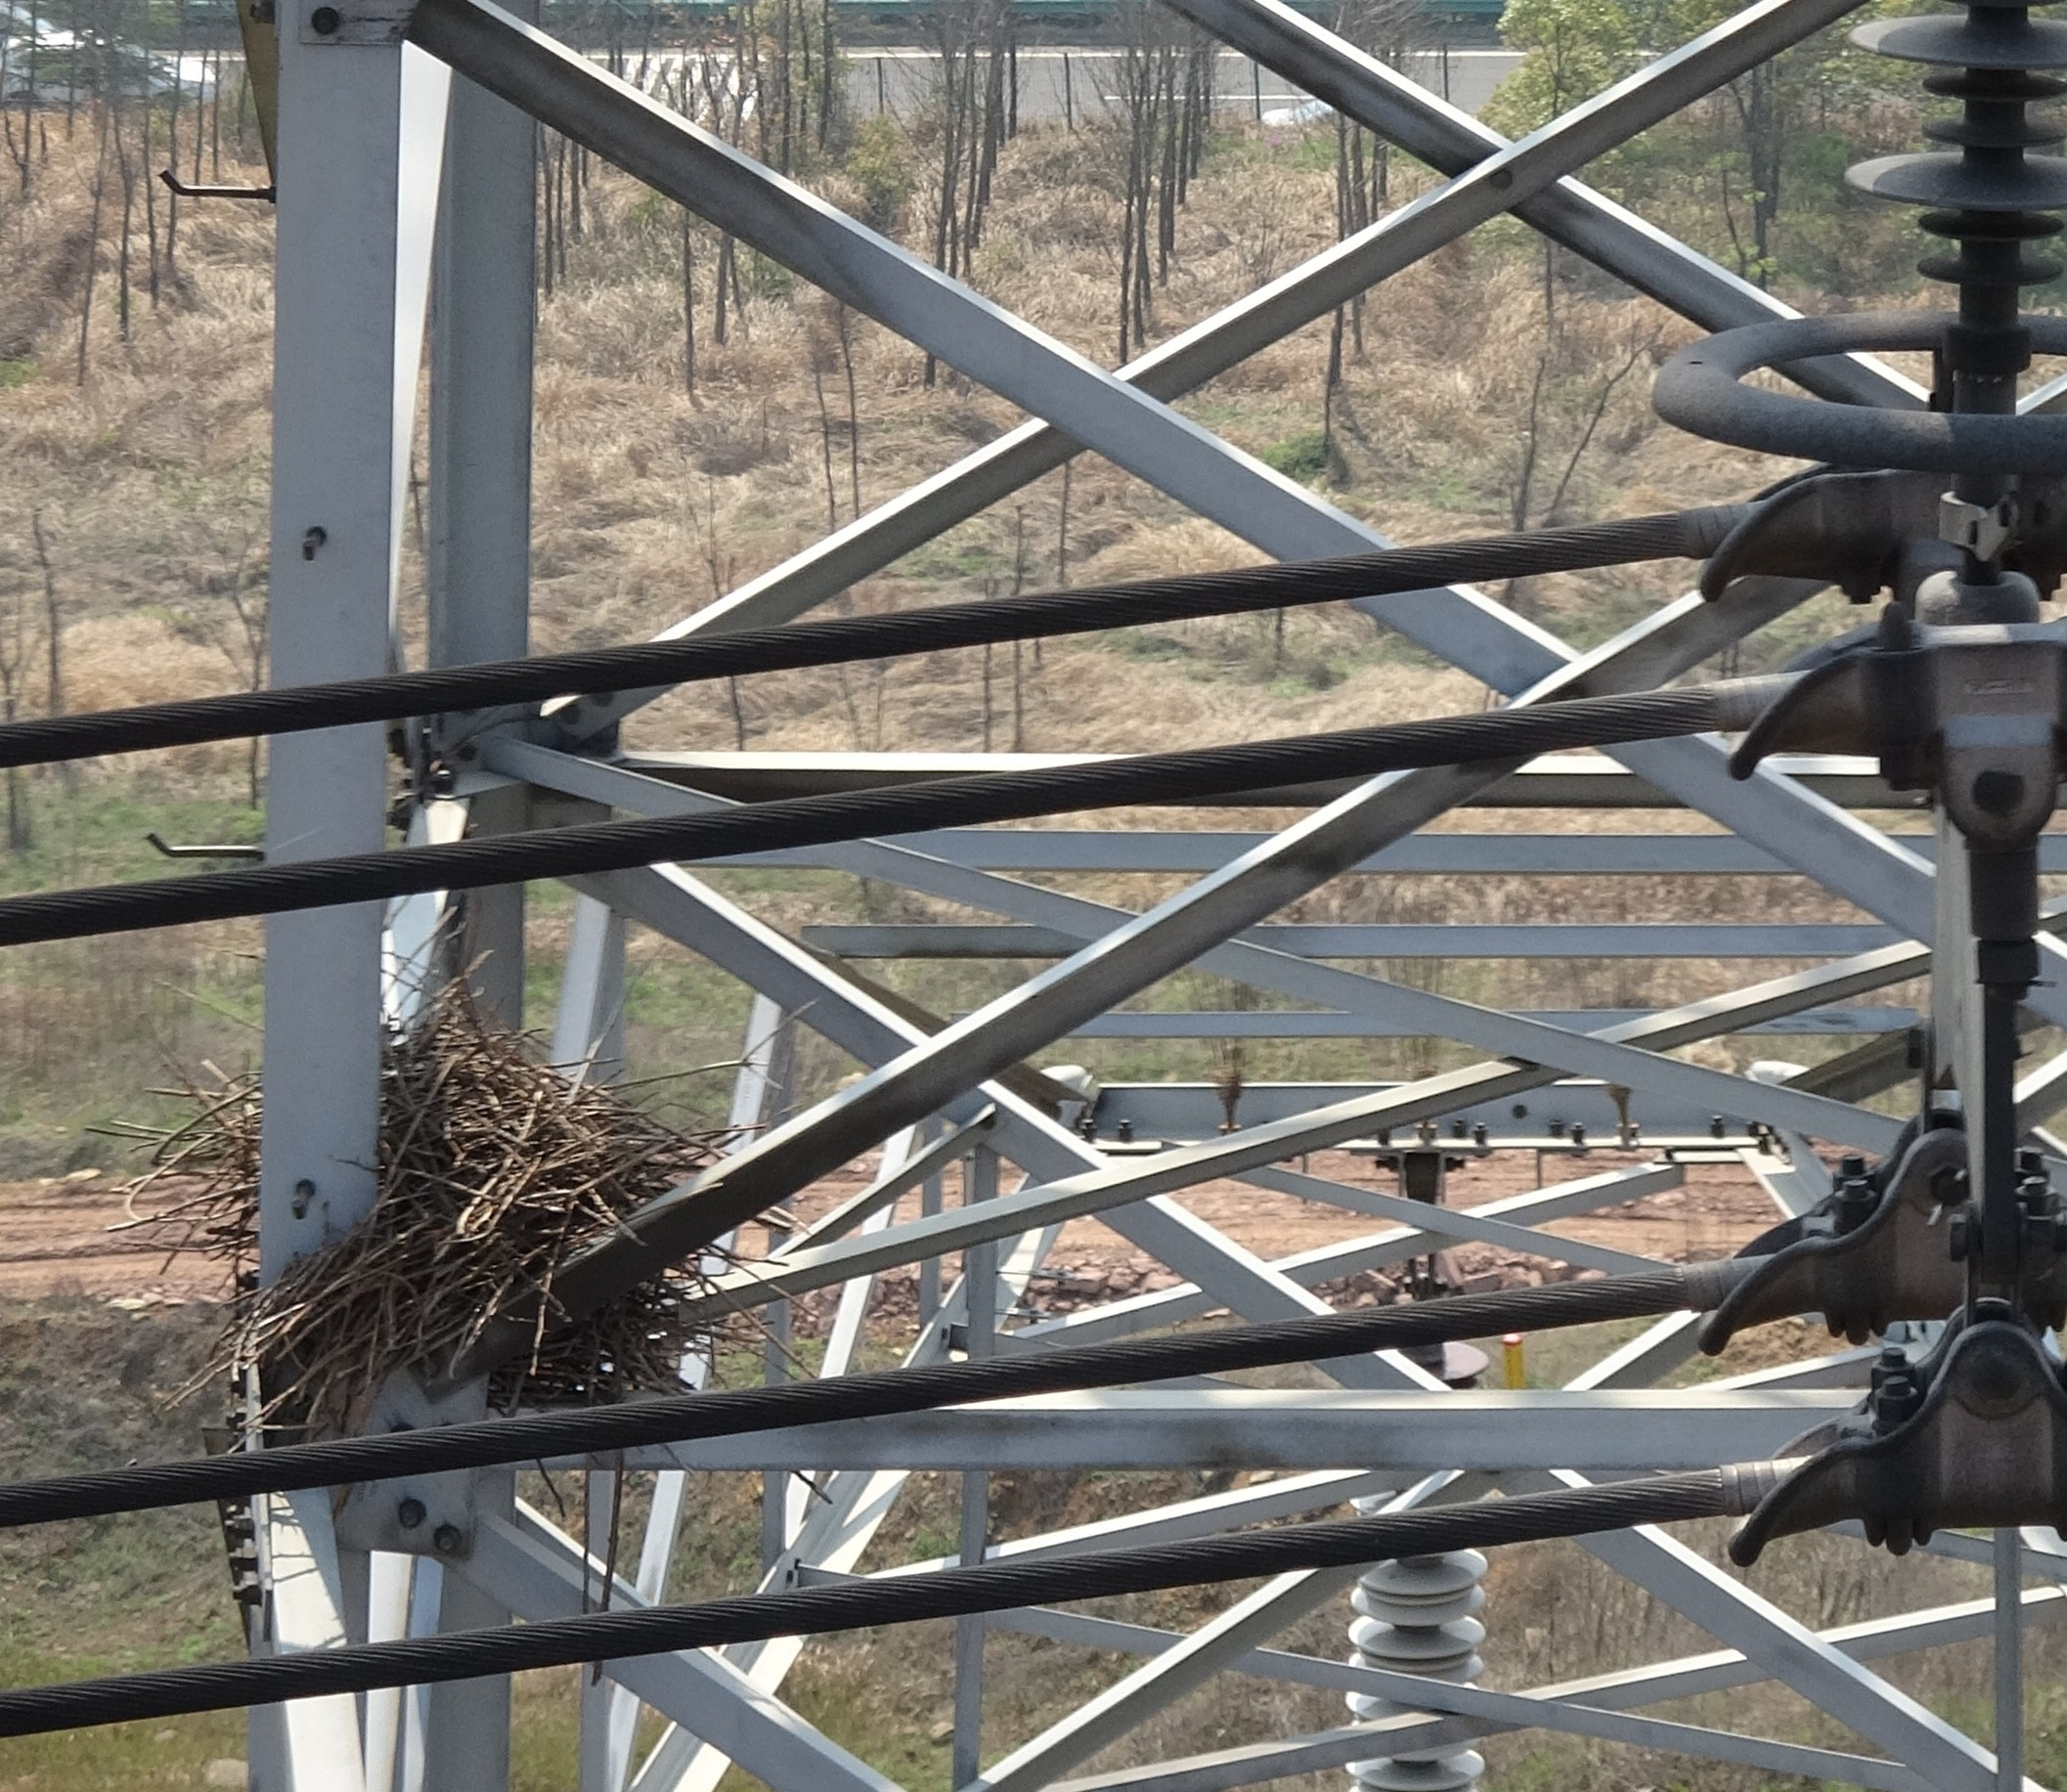niaowo: (151, 977, 775, 1413)
